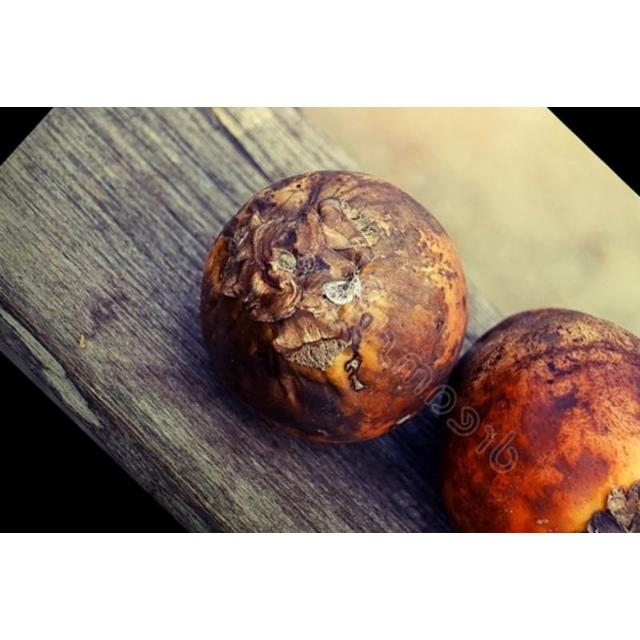damaged: (200, 171, 470, 445)
